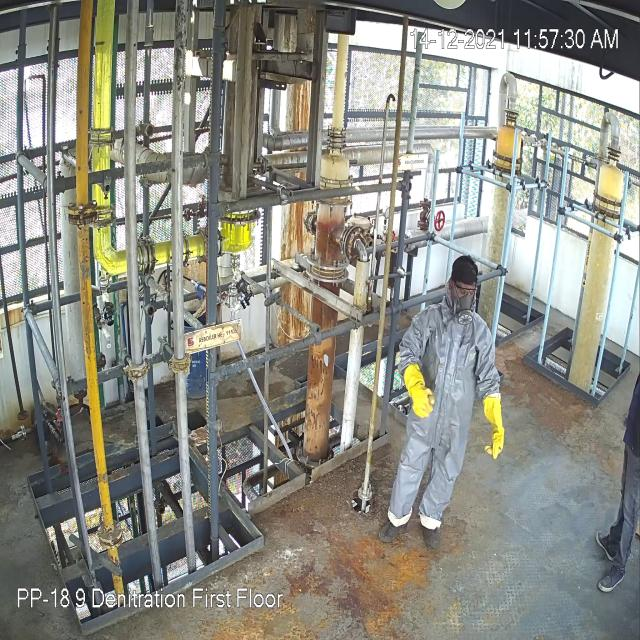Gloves: (404, 363, 435, 418), (484, 393, 505, 458)
No Hardhat: (451, 255, 479, 285)
Safety Boots: (379, 520, 408, 543), (422, 525, 441, 550)
